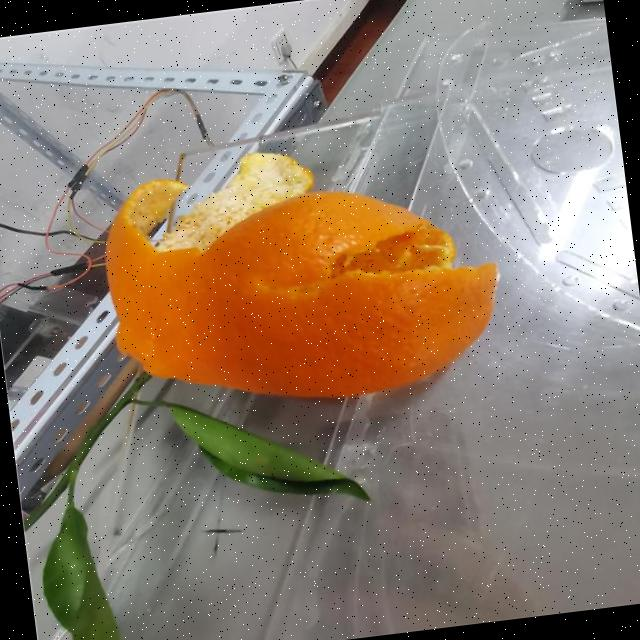orange-peel: (92, 127, 512, 426)
